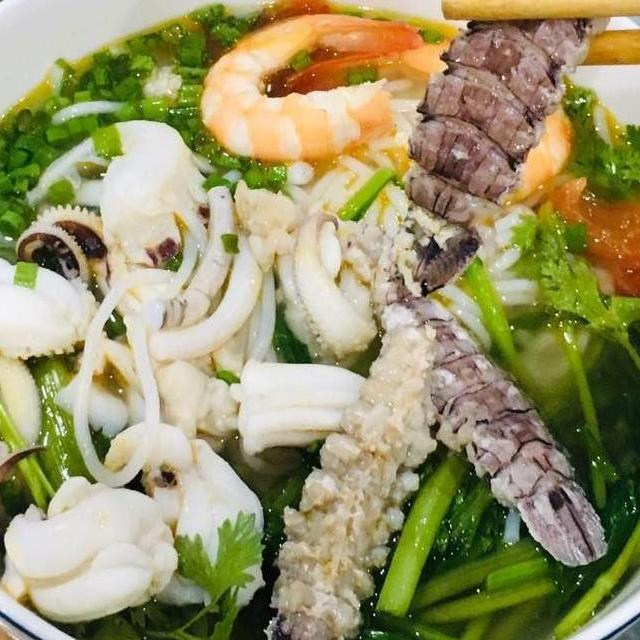bun: (424, 195, 552, 357), (266, 125, 424, 249)
bun hai san: (0, 0, 640, 640)
muc: (18, 114, 226, 284), (98, 416, 272, 618), (0, 469, 187, 634), (262, 204, 396, 370), (0, 200, 123, 367)
tom: (194, 10, 432, 167)
tom tit: (360, 246, 620, 571), (384, 0, 640, 303), (256, 315, 449, 640)
